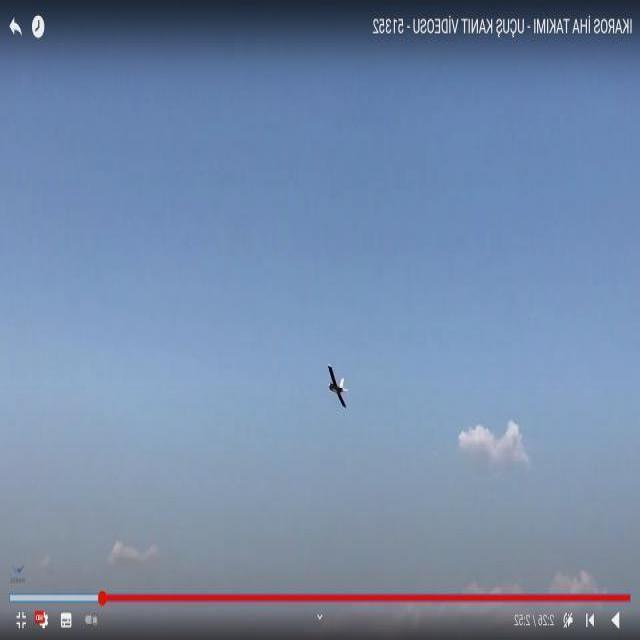iha: (316, 376, 362, 392)
